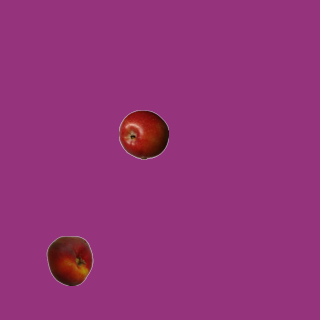Apple Braeburn: (118, 109, 168, 159)
Nectarine Flat: (44, 235, 94, 285)
